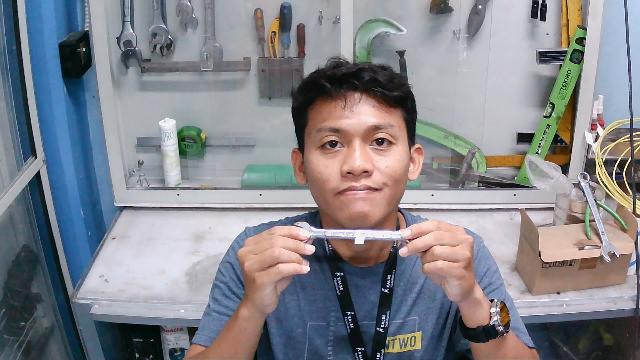kunci_pass_13: (291, 211, 422, 268)
